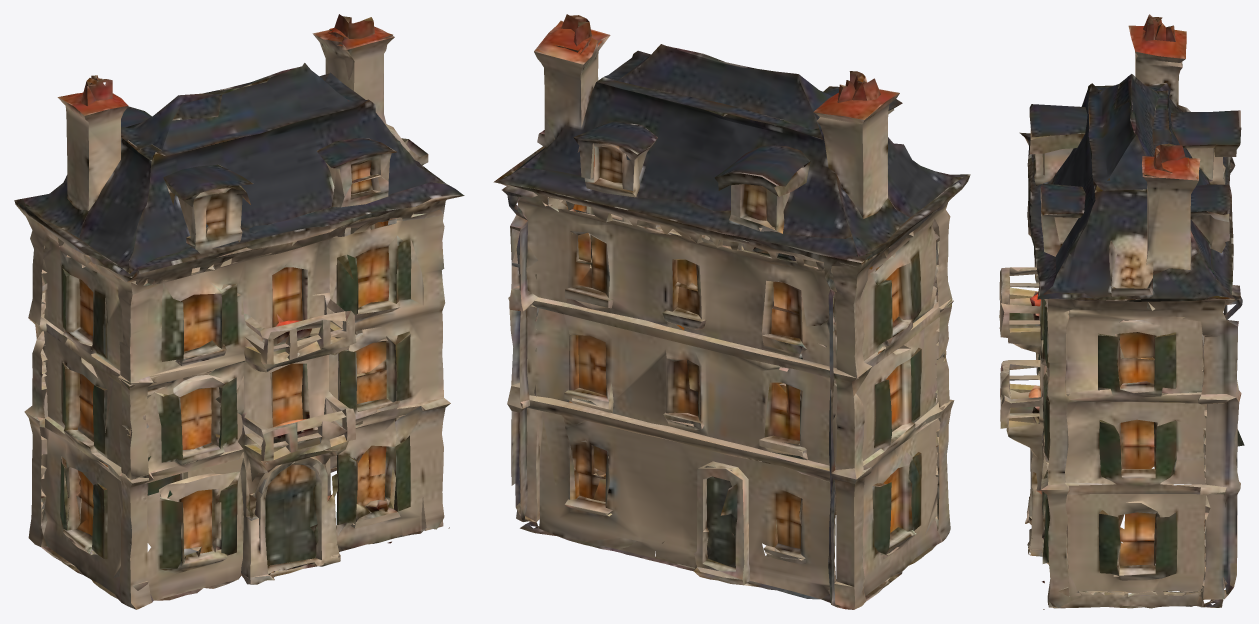
3 renders of one model, left to right at view 1: azimuth 30°, elevation 25°; view 2: azimuth 150°, elevation 25°; view 3: azimuth 270°, elevation 25°, orthographic. The views are drawn at different scales.
Parts seen in each view (by area): view 1: classic__villa_3__neural_lod; view 2: classic__villa_3__neural_lod; view 3: classic__villa_3__neural_lod.
Part boxes in pixels (x1,y1,x2,y2): classic__villa_3__neural_lod: (14,14,464,609); classic__villa_3__neural_lod: (493,14,970,609); classic__villa_3__neural_lod: (999,14,1244,609).
Size of the model in its own units: 0.6836 by 0.887 by 0.4314.
Materials: 1 (1 with a texture image).
